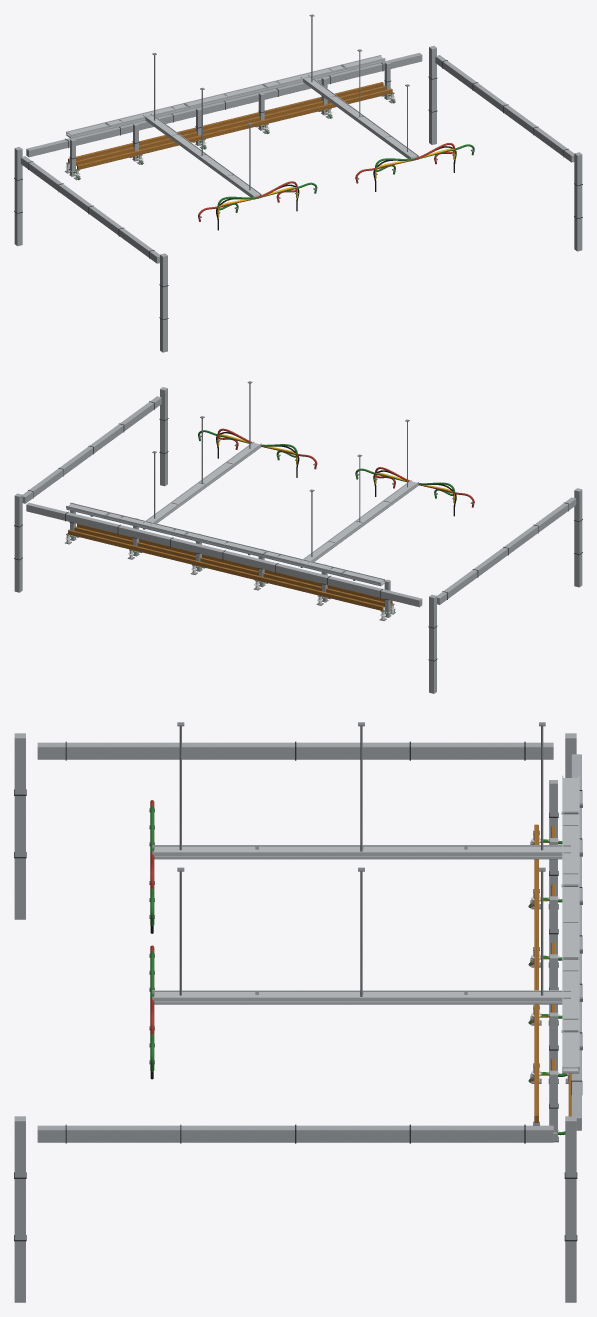
File: di-busbar.glb
3 renders of one model, top to bottom at view 1: azimuth 30°, elevation 25°; view 2: azimuth 150°, elevation 25°; view 3: azimuth 270°, elevation 25°, orthographic. The views are drawn at different scales.
Visible parts, largest first — view 1: WallTrunk_N, Busbar_1, WallTrunk_E, WallTrunk_W, Busbar_2, Busbar_3, CableTrayLip, WallTrunkV_ES, WallTrunkV_WN, WallTrunkV_WS, WallTrunkV_EN, CableTray (+1 smaller); view 2: WallTrunk_N, Busbar_3, WallTrunk_W, WallTrunk_E, Busbar_2, Busbar_1, CableTrayLip.001, WallTrunkV_EN, WallTrunkV_WS, WallTrunkV_WN, WallTrunkV_ES, CableTray (+1 smaller); view 3: WallTrunk_E, WallTrunk_W, SpineTrayLip_-3.0_0.14, WallTrunkV_EN, WallTrunkV_ES, WallTrunkV_WS, SpineTrayLip_3.0_0.14, SpineTray_-3.0, SpineTray_3.0, WallTrunk_N, Busbar_1, SpineTrayLip_3.0_-0.14 (+7 smaller).
Boxes of the visible parts, x1,y1,x2,y2 form: WallTrunk_N: (26,53,422,157); Busbar_1: (77,88,392,169); WallTrunk_E: (435,55,574,162); WallTrunk_W: (20,156,159,263); Busbar_2: (76,85,386,165); Busbar_3: (68,82,383,163); CableTrayLip: (70,58,385,136); WallTrunkV_ES: (574,152,582,251); WallTrunkV_WN: (14,147,22,246); WallTrunkV_WS: (160,253,167,352); WallTrunkV_EN: (429,46,436,144); CableTray: (66,60,385,138); WallTrunk_N: (26,502,422,607); Busbar_3: (68,529,383,610); WallTrunk_W: (437,497,576,604); WallTrunk_E: (22,396,161,503); Busbar_2: (74,526,384,606); Busbar_1: (77,524,392,604); CableTrayLip.001: (66,505,381,584); WallTrunkV_EN: (14,493,22,592); WallTrunkV_WS: (574,488,582,587); WallTrunkV_WN: (429,594,436,693); WallTrunkV_ES: (160,387,167,486); CableTray: (66,508,385,586); WallTrunk_E: (37,1125,553,1142); WallTrunk_W: (37,742,553,759); SpineTrayLip_-3.0_0.14: (152,851,570,856); WallTrunkV_EN: (565,1116,576,1302); WallTrunkV_ES: (14,1116,25,1302); WallTrunkV_WS: (14,733,25,919); SpineTrayLip_3.0_0.14: (152,997,570,1001); SpineTray_-3.0: (154,849,562,859); SpineTray_3.0: (154,995,562,1004); WallTrunk_N: (571,754,581,1130); Busbar_1: (534,824,538,1122); SpineTrayLip_3.0_-0.14: (152,990,570,994).
Size of the model in its own units: 16.02 by 6.01 by 9.92.
Materials: 10 (10 with a texture image).
